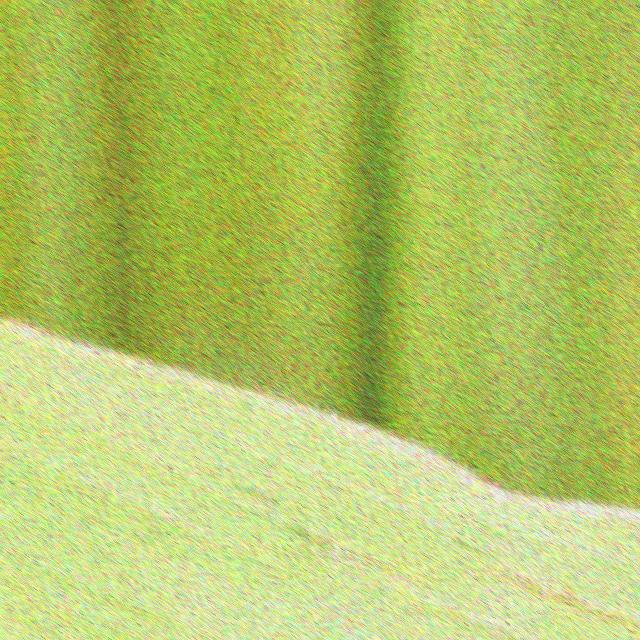BLS: (456, 566, 640, 631), (378, 588, 537, 640), (285, 522, 427, 576), (230, 478, 279, 509)
